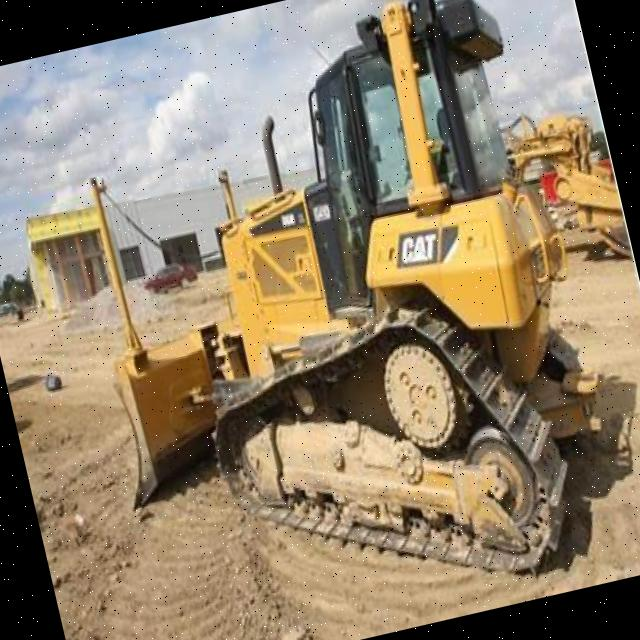Bulldozer: (45, 0, 636, 636)
